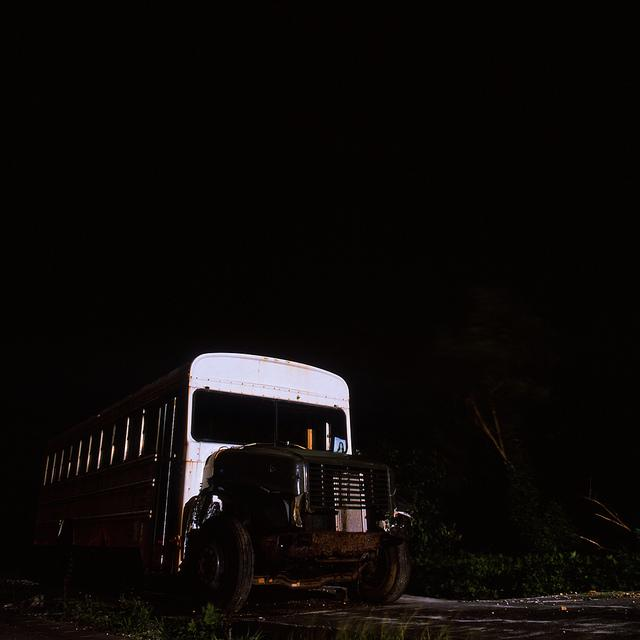Bus: (28, 339, 431, 624)
